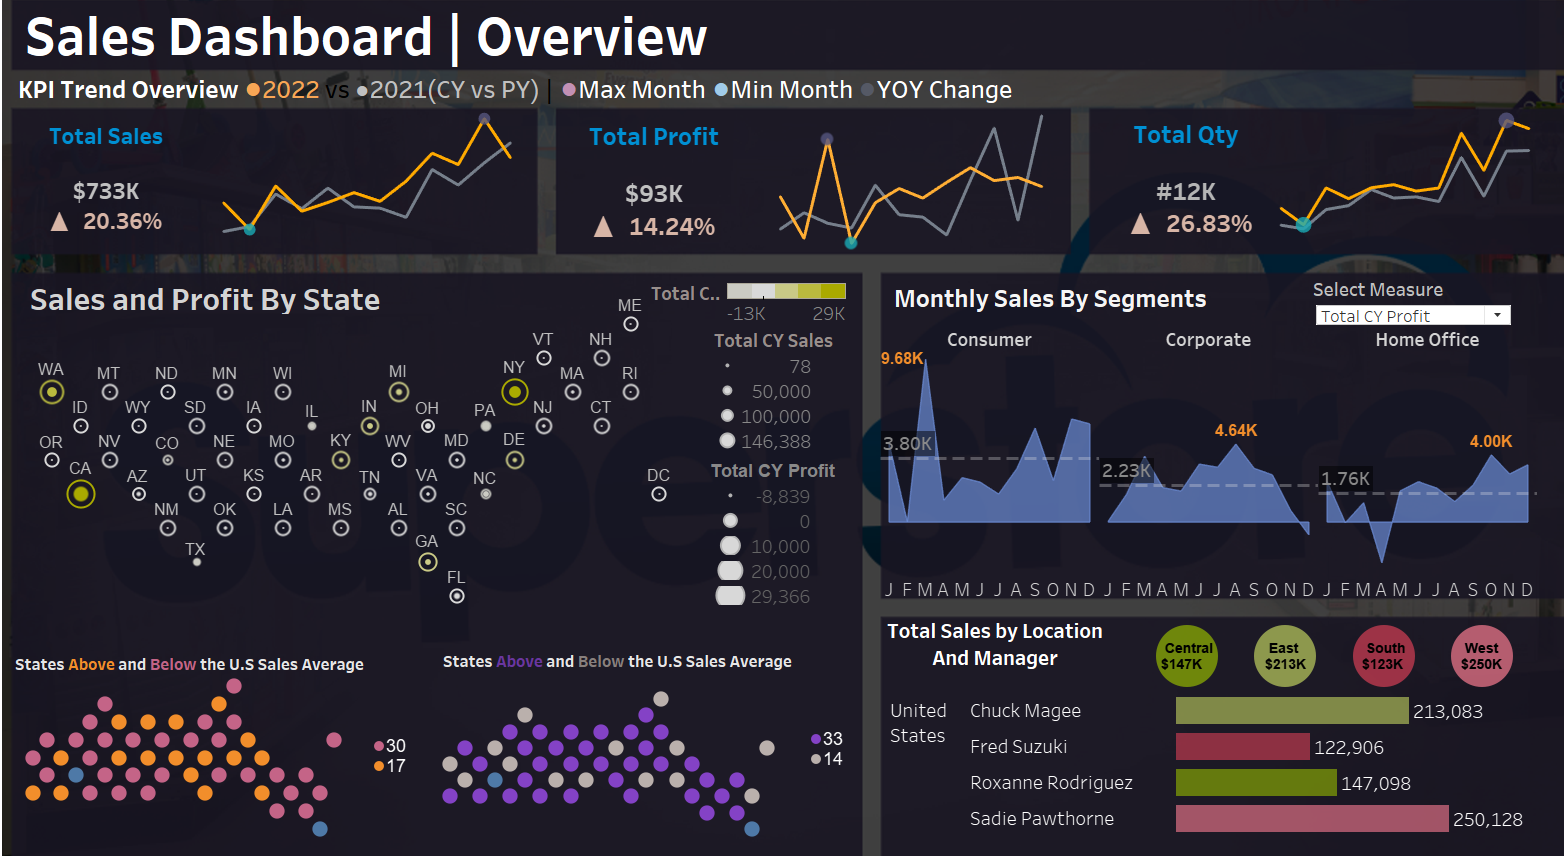

This screenshot's page, from the dashboard's own definition file:
{"tool":"tableau","page":{"name":"Dashboard 1","canvas":[1600,900],"ordinal":0},"visuals":[{"type":"image","param":"C:/Users/Samiksha/Downloads/Screenshot 2025-06-21 141619.png","box":[8,8,1584,884]},{"type":"text","box":[31,22,843,68]},{"type":"text","box":[24,81,1488,54]},{"type":"worksheet","title":"Sales KPI","mark":"Automatic","box":[24,128,183,143]},{"type":"worksheet","title":"Sales Sparkline","mark":"Automatic","rows":["Calculation_96545940274659341"],"cols":["Order Date"],"box":[207,129,339,145]},{"type":"worksheet","title":"Profit Sparkline ","mark":"Automatic","rows":["min max month (copy)_96545940277997582"],"cols":["Order Date"],"box":[766,129,309,143]},{"type":"worksheet","title":"Qty Sparkline","mark":"Automatic","rows":["min max Profit (copy)_96545940279250959"],"cols":["Order Date"],"box":[1268,129,293,143]},{"type":"worksheet","title":"Profit KPI","mark":"Automatic","box":[562,130,204,145]},{"type":"worksheet","title":"Qty KPI","mark":"Automatic","box":[1102,130,187,142]},{"type":"parameter","param":"[Parameters].[Parameter 1]","box":[1323,298,201,52]},{"type":"legend","title":"Sales &Profit by State","param":"[federated.13hksun13de74h18tayge16i1o47].[sum:Total CY Sales (copy)_965459402696","box":[661,301,199,53]},{"type":"text","box":[36,303,427,33]},{"type":"text","box":[900,303,321,33]},{"type":"worksheet","title":"Sales &Profit by State","mark":"Circle","rows":["Row"],"cols":["Column","Column"],"box":[20,312,687,340]},{"type":"legend","title":"Sales &Profit by State","param":"[federated.13hksun13de74h18tayge16i1o47].[sum:Calculation_96545940254732288:qk]","box":[724,349,139,131]},{"type":"worksheet","title":"Monthly Sales By Segment","mark":"Area","rows":["Calculation_96545940326154263"],"cols":["Segment","Order Date"],"box":[890,351,657,273]},{"type":"legend","title":"Sales &Profit by State","param":"[federated.13hksun13de74h18tayge16i1o47].[sum:Total CY Sales (copy)_965459402696","box":[720,483,140,155]},{"type":"text","box":[890,638,230,55]},{"type":"worksheet","title":"RegionWise Sales","mark":"Circle","cols":["Region"],"box":[1148,647,393,62]},{"type":"text","box":[21,653,515,66]},{"type":"text","box":[449,668,357,30]},{"type":"worksheet","title":"Avg Sales by State","mark":"Circle","rows":["Row"],"cols":["Column"],"box":[20,690,347,179]},{"type":"worksheet","title":"Avg Profit by State","mark":"Circle","rows":["Row"],"cols":["Column"],"box":[436,705,365,162]},{"type":"worksheet","title":"Total Sales by Location & Manager","mark":"Automatic","rows":["Country/Region","Regional Manager"],"cols":["Calculation_96545940254732288"],"box":[894,714,658,144]},{"type":"worksheet","title":"Avg Profit By State Count (2)","mark":"Circle","rows":["Sales Avg Color (copy)_96545940315242518"],"box":[796,751,106,58]},{"type":"worksheet","title":"Avg Sales By State Count","mark":"Circle","rows":["Calculation_96545940313202707"],"box":[359,758,87,59]}]}

Visuals, with their boxes in screenshot pixels (x1, y1, x2, y2), scaled from the page's 1600x900 canvas onto the 1564x856 screenshot:
image: 8 8 1556 848
text: 30 21 854 86
text: 23 77 1478 128
"Sales KPI" worksheet: 23 122 202 258
"Sales Sparkline" worksheet: 202 123 534 261
"Profit Sparkline " worksheet: 749 123 1051 259
"Qty Sparkline" worksheet: 1239 123 1526 259
"Profit KPI" worksheet: 549 124 749 262
"Qty KPI" worksheet: 1077 124 1260 259
parameter: 1293 283 1490 333
"Sales &Profit by State" legend: 646 286 841 337
text: 35 288 453 320
text: 880 288 1194 320
"Sales &Profit by State" worksheet (Circle marks): 20 297 691 620
"Sales &Profit by State" legend: 708 332 844 457
"Monthly Sales By Segment" worksheet (Area marks): 870 334 1512 593
"Sales &Profit by State" legend: 704 459 841 607
text: 870 607 1095 659
"RegionWise Sales" worksheet (Circle marks): 1122 615 1506 674
text: 21 621 524 684
text: 439 635 788 664
"Avg Sales by State" worksheet (Circle marks): 20 656 359 827
"Avg Profit by State" worksheet (Circle marks): 426 671 783 825
"Total Sales by Location & Manager" worksheet: 874 679 1517 816
"Avg Profit By State Count (2)" worksheet (Circle marks): 778 714 882 769
"Avg Sales By State Count" worksheet (Circle marks): 351 721 436 777
